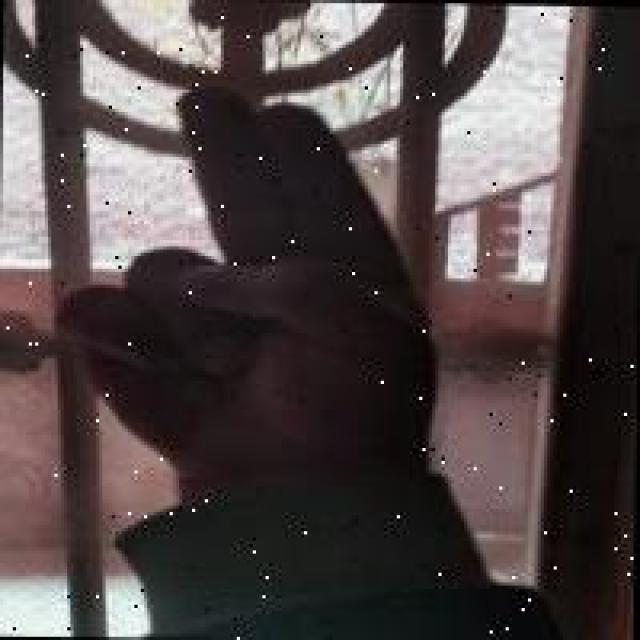U: (50, 77, 452, 470)
